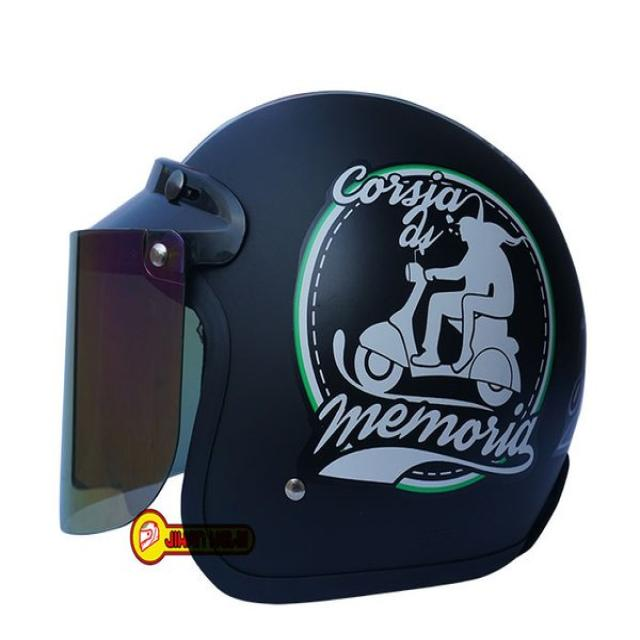Helm: (63, 71, 584, 611)
